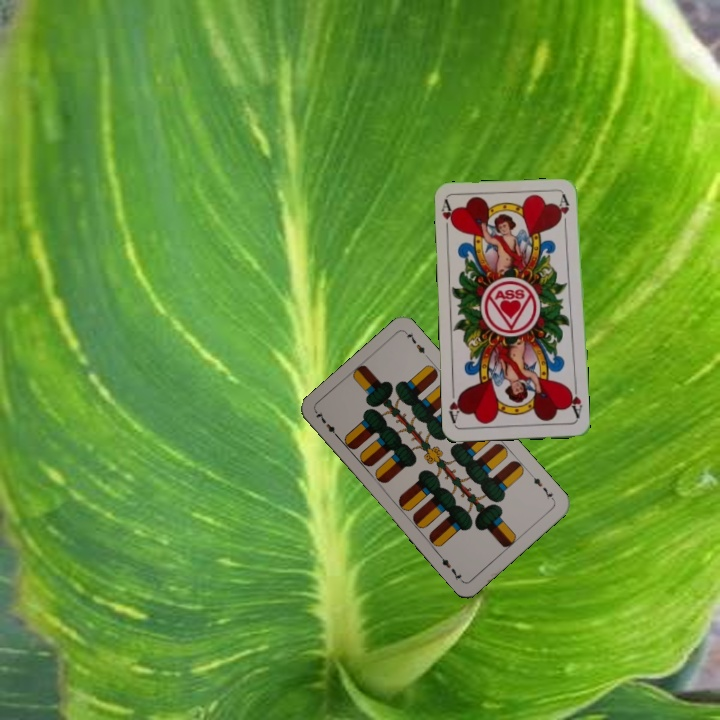E7: (312, 407, 342, 442), (527, 470, 557, 504)
HA: (564, 381, 585, 421), (437, 197, 458, 237)
